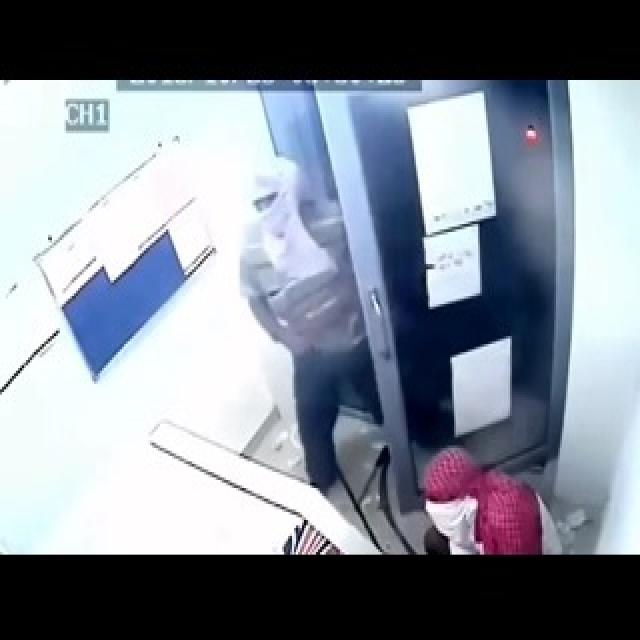thief: (245, 158, 389, 498), (404, 444, 566, 554)
